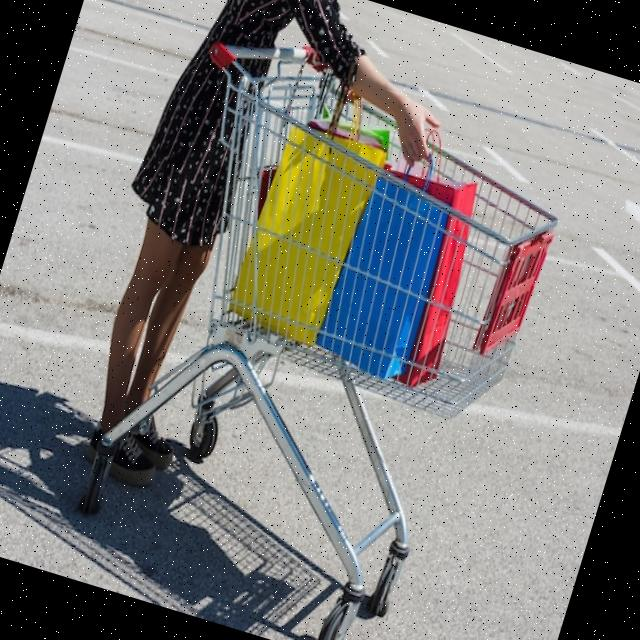Person: (47, 0, 469, 544)
